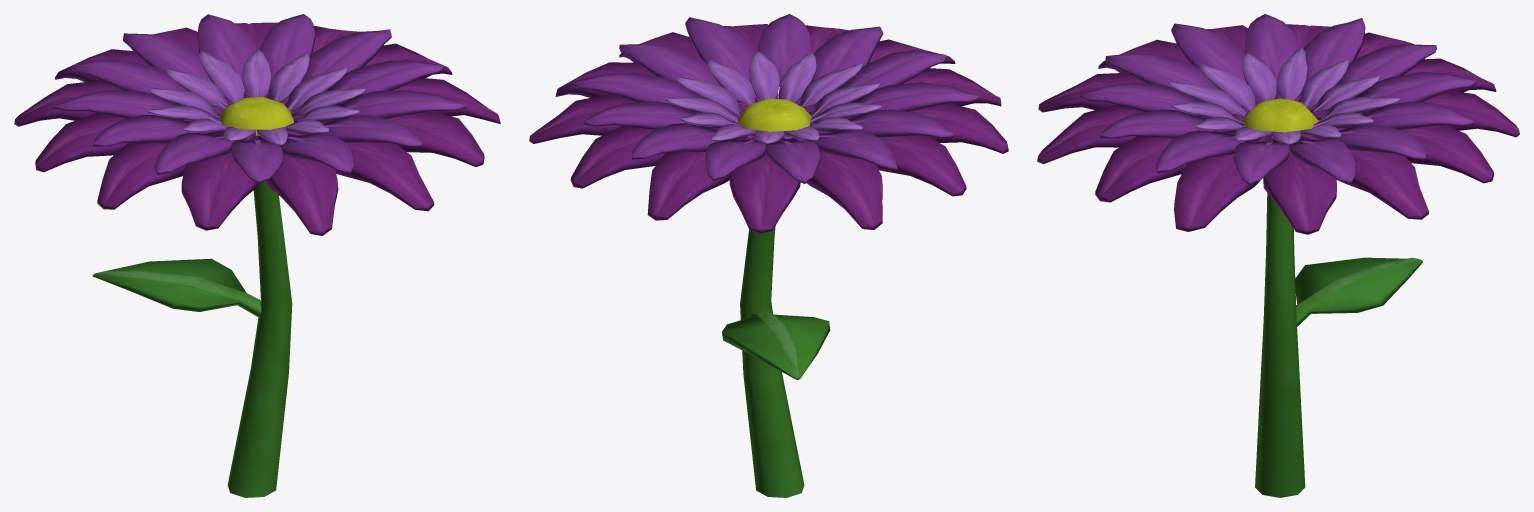
Rendered from FlorRoxaBaixa.fbx.
3 renders of one model, left to right at view 1: azimuth 30°, elevation 25°; view 2: azimuth 150°, elevation 25°; view 3: azimuth 270°, elevation 25°, orthographic.
Parts seen in each view (by area): view 1: FlorRoxa.001; view 2: FlorRoxa.001; view 3: FlorRoxa.001.
Part boxes in pixels (x1,y1,x2,y2): FlorRoxa.001: (14, 14, 500, 497); FlorRoxa.001: (529, 14, 1008, 497); FlorRoxa.001: (1037, 14, 1519, 497).
Size of the model in its own units: 162 by 149 by 164.
